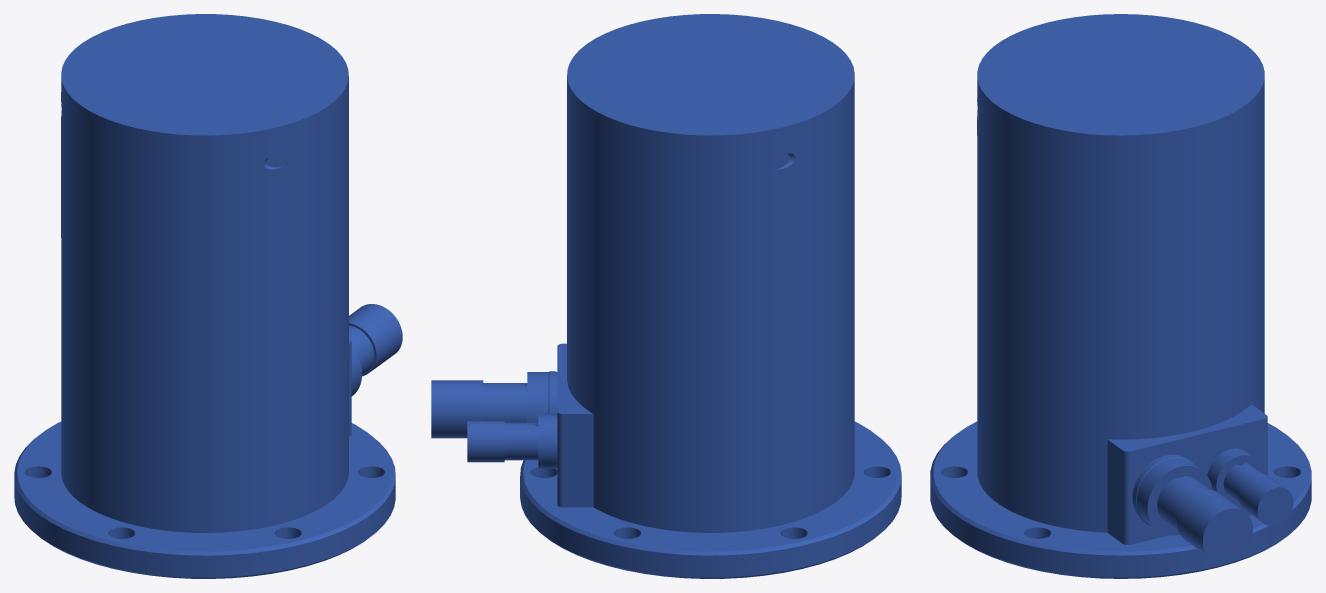
3 views of the same model, side by side, from view 1: azimuth 30°, elevation 25°; view 2: azimuth 150°, elevation 25°; view 3: azimuth 270°, elevation 25° (orthographic).
Visible parts, largest first — view 1: mesh23, mesh24, mesh38, mesh40, mesh39, mesh1, mesh3, mesh41; view 2: mesh23, mesh24, mesh38, mesh40, mesh14, mesh1, mesh39, mesh3, mesh36, mesh34, mesh22, mesh7 (+3 smaller); view 3: mesh23, mesh24, mesh38, mesh40, mesh12, mesh0, mesh1, mesh39, mesh16, mesh15, mesh3, mesh6 (+8 smaller).
Part boxes in pixels (x1,y1,x2,y2): mesh23: (61, 76, 348, 532); mesh24: (61, 14, 348, 135); mesh38: (17, 421, 392, 551); mesh40: (14, 477, 395, 577); mesh39: (14, 438, 395, 555); mesh1: (349, 304, 402, 371); mesh3: (349, 325, 374, 374); mesh41: (41, 538, 368, 578); mesh23: (567, 76, 854, 532); mesh24: (567, 14, 854, 135); mesh38: (523, 421, 898, 551); mesh40: (520, 476, 901, 577); mesh14: (563, 414, 593, 507); mesh1: (431, 380, 483, 438); mesh39: (520, 438, 901, 555); mesh3: (483, 383, 527, 422); mesh36: (467, 421, 504, 462); mesh34: (504, 422, 538, 460); mesh22: (538, 414, 557, 468); mesh7: (527, 372, 548, 422); mesh23: (977, 79, 1264, 532); mesh24: (977, 14, 1264, 135); mesh38: (933, 421, 1308, 551); mesh40: (930, 479, 1311, 577); mesh12: (1131, 419, 1264, 544); mesh0: (1203, 508, 1252, 562); mesh1: (1176, 489, 1242, 556); mesh39: (930, 436, 1311, 555); mesh16: (1107, 440, 1122, 543); mesh15: (1108, 404, 1267, 451); mesh3: (1157, 476, 1209, 531); mesh6: (1147, 466, 1212, 535).
Bounding box in the file's own units: 0.154 × 0.1548 × 0.1258.
